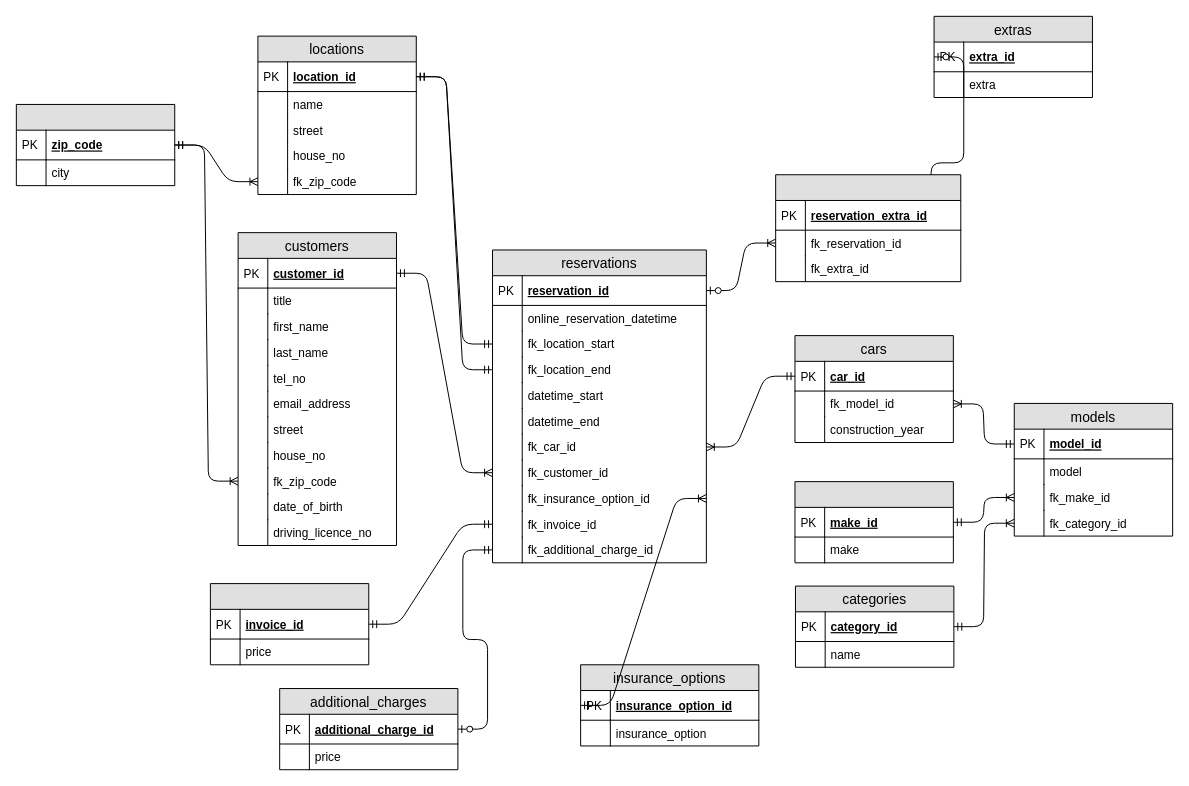
The diagram is 1189 pixels wide and 786 high, and some of its shapes have lost their labels. Here are the shapes that lost their labels. From the top down, the box of each, then its label:
(15, 103, 175, 186): cities
(775, 174, 961, 282): reservations_extras
(794, 481, 953, 563): makes
(209, 583, 369, 665): invoices
